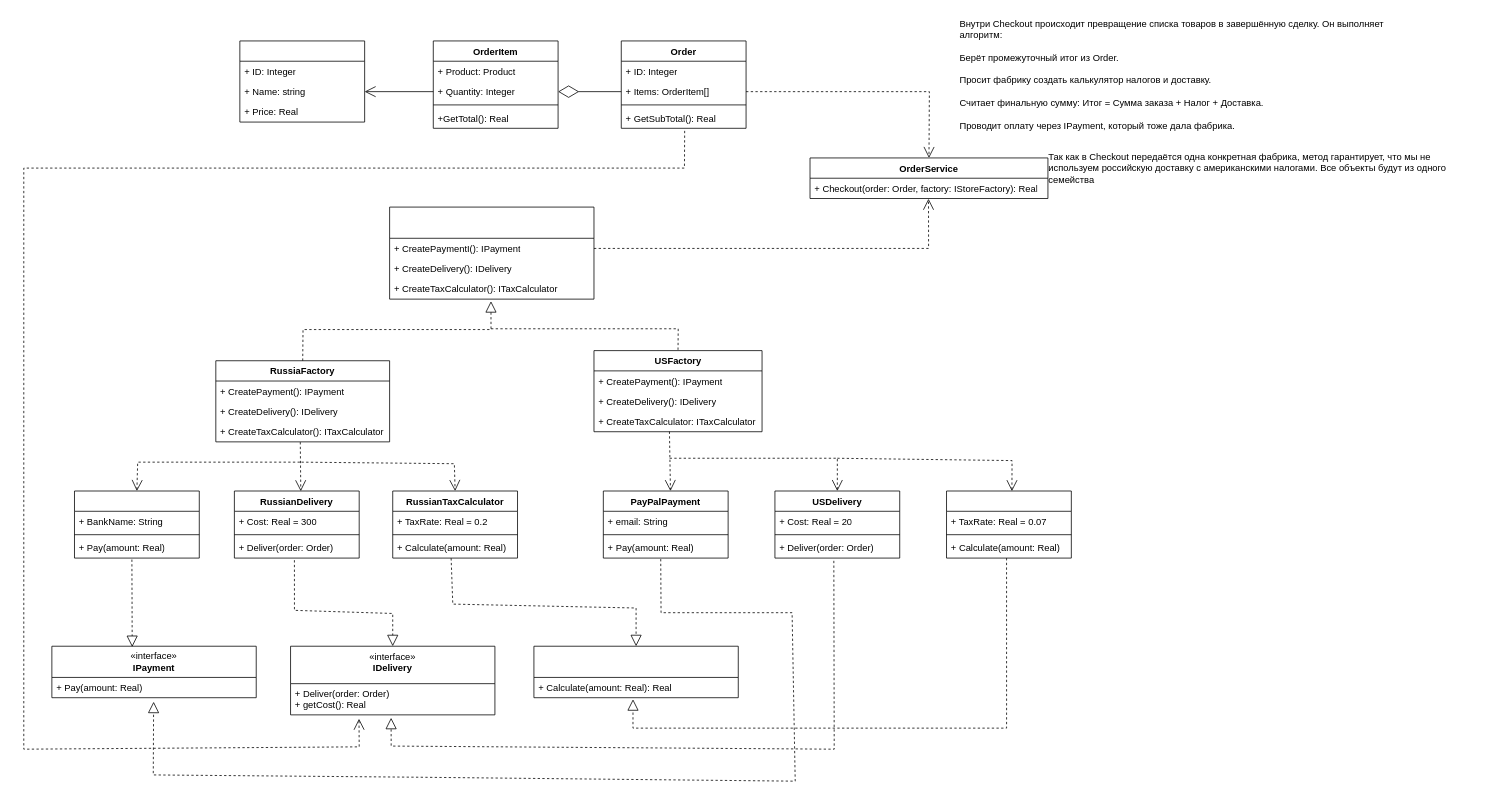
Some shapes in this 1490 by 806 pixel diagram are drawn without their labels. The shapes that lost their labels are listed below. From the top down, each one's box as (x1, y1, x2, y2) in pixels, then its label:
(239, 40, 365, 122): Product
(389, 206, 594, 299): «interface» IStoreFactory
(74, 490, 199, 558): SBPPayment
(946, 490, 1071, 558): USTaxCalculator
(533, 645, 738, 698): «interface» ITaxCalculator
